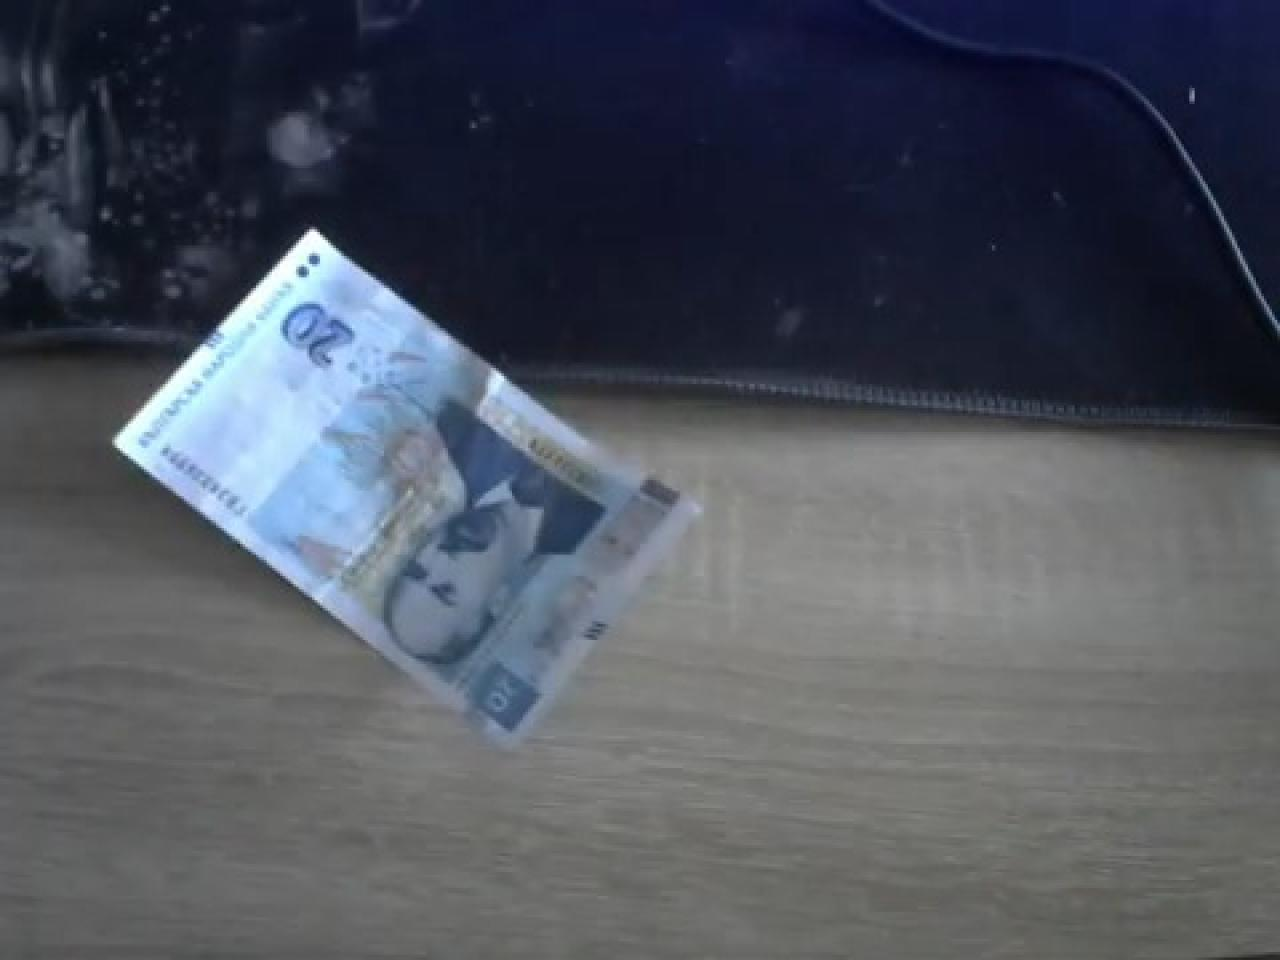20leva: (109, 224, 703, 749)
